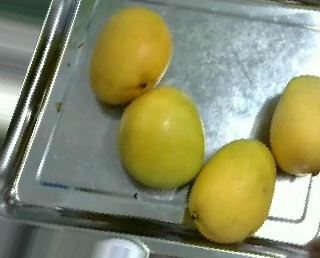Mango: (189, 139, 277, 242), (117, 86, 207, 185), (93, 8, 173, 105), (269, 75, 320, 176)
